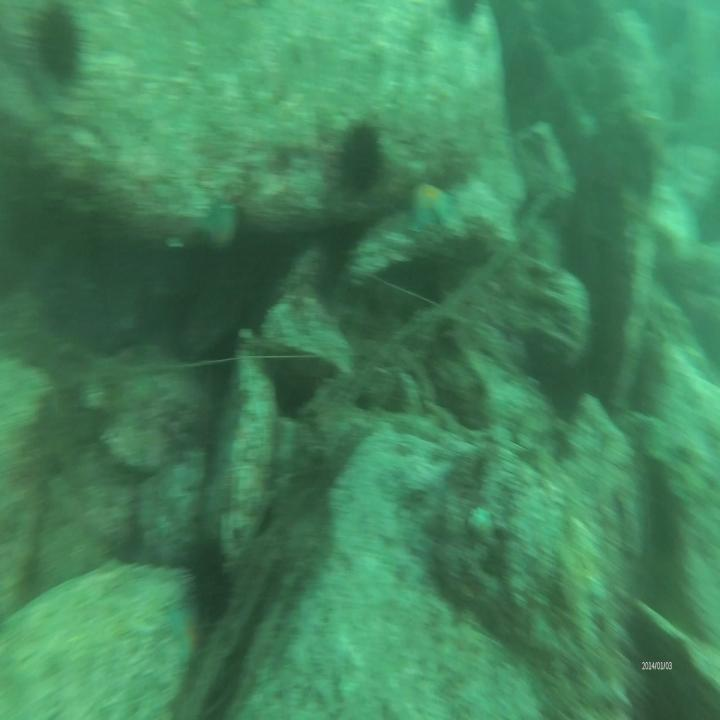echinus: (327, 106, 394, 209), (28, 2, 97, 94), (443, 0, 483, 37)
starfish: (403, 171, 455, 232), (197, 201, 242, 251)
